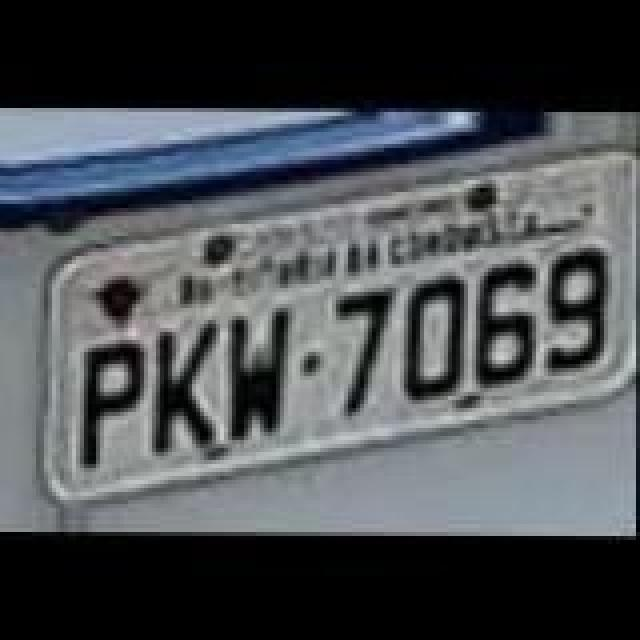6: (474, 256, 538, 388)
7: (334, 290, 398, 418)
9: (548, 244, 616, 372)
K: (154, 326, 218, 454)
O: (404, 272, 472, 404)
P: (82, 336, 146, 472)
W: (230, 306, 294, 442)
